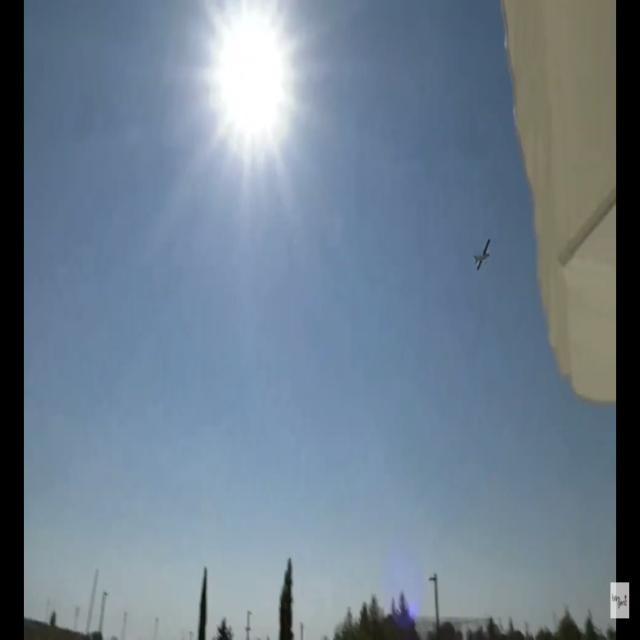iha: (473, 230, 492, 275)
